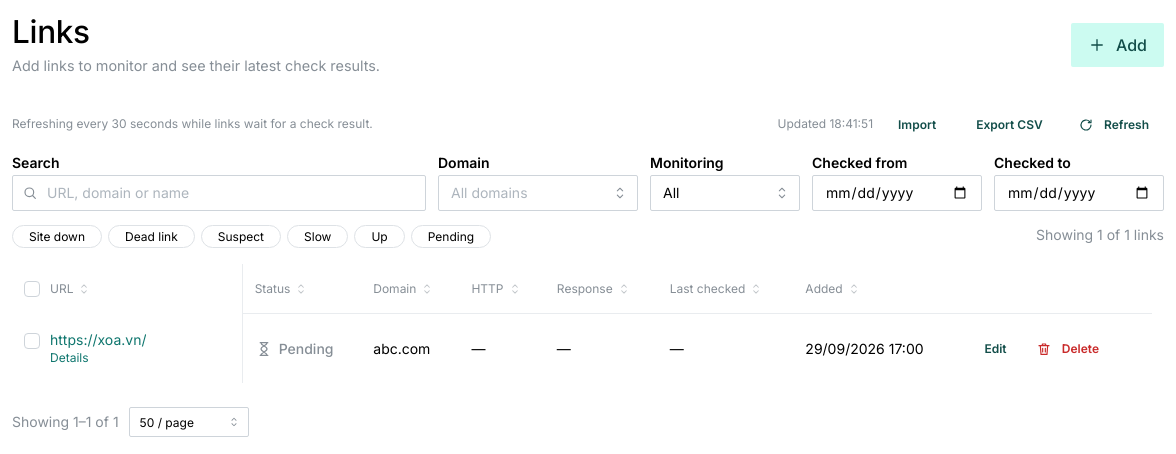
Test: LinksPage › FR-04: delete needs a second confirming click, then the link disappears
Click the button "Delete". click: [1070, 349]
box: [1026,334,1114,364]
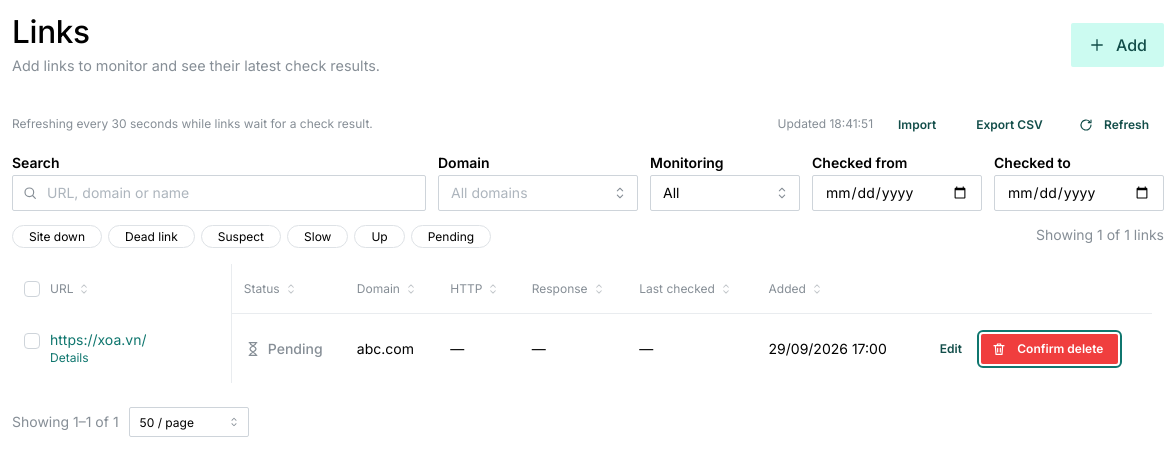
Click the button "Confirm delete". click: [1050, 349]
box: [981,334,1118,364]
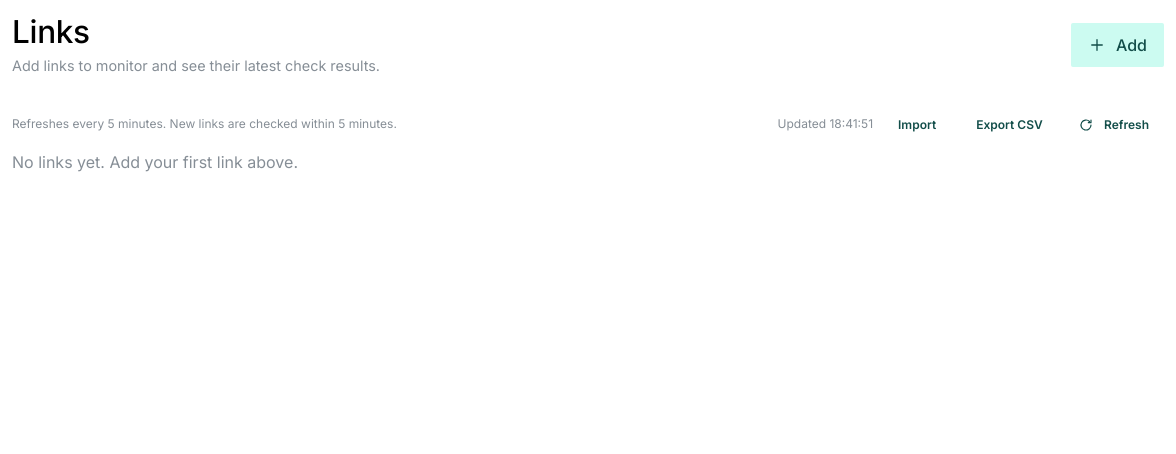
Expected: the link "https://xoa.vn/" is gone
